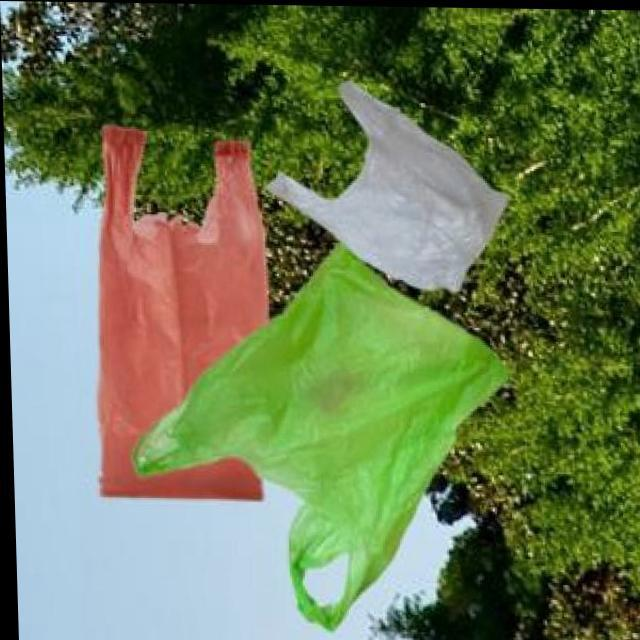Single-layer Plastic: (135, 245, 506, 629), (100, 126, 268, 499), (269, 81, 506, 291)
